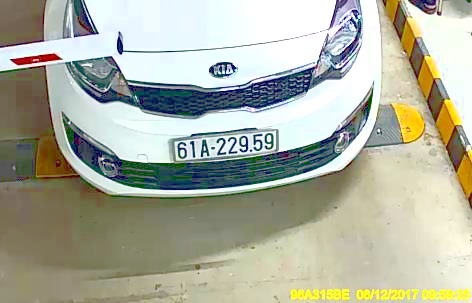plate: (169, 128, 281, 162)
